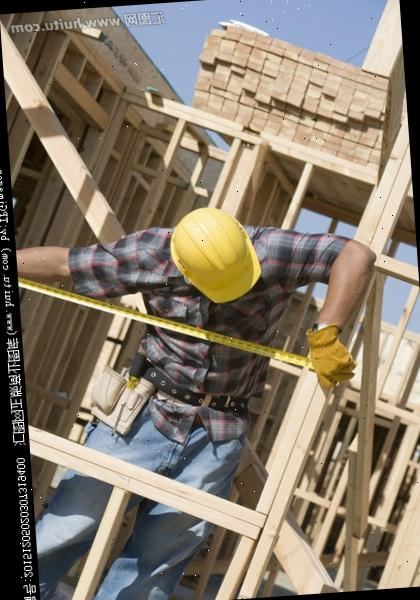helmet: (167, 203, 260, 309)
no_wear: (130, 302, 288, 427)
